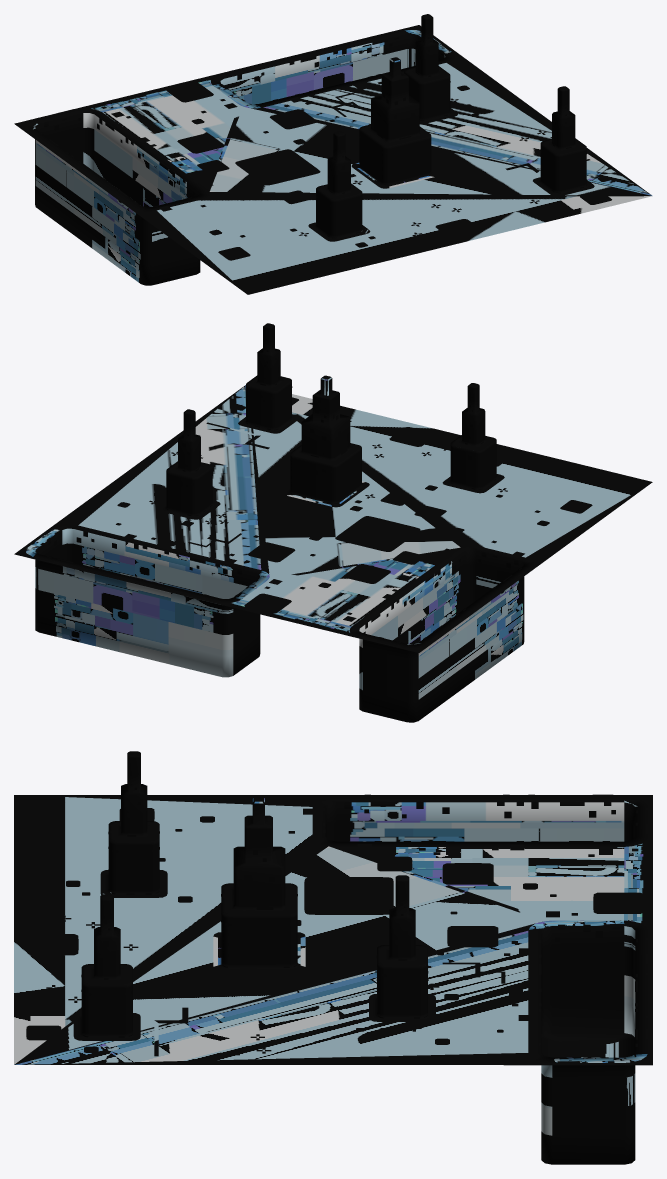
The model's file is C_mountain2_03.fbx.
3 renders of one model, top to bottom at view 1: azimuth 30°, elevation 25°; view 2: azimuth 150°, elevation 25°; view 3: azimuth 270°, elevation 25°, orthographic. The views are drawn at different scales.
Visible parts, largest first — view 1: C_mountain2_03.002; view 2: C_mountain2_03.002; view 3: C_mountain2_03.002.
Boxes of the visible parts, left/top/right/bottom form: C_mountain2_03.002: left=14, top=14, right=652, bottom=294; C_mountain2_03.002: left=14, top=323, right=652, bottom=722; C_mountain2_03.002: left=14, top=751, right=652, bottom=1164.
Bounding box in the file's own units: 50.03 × 22.52 × 50.
1 material, 1 textured.
